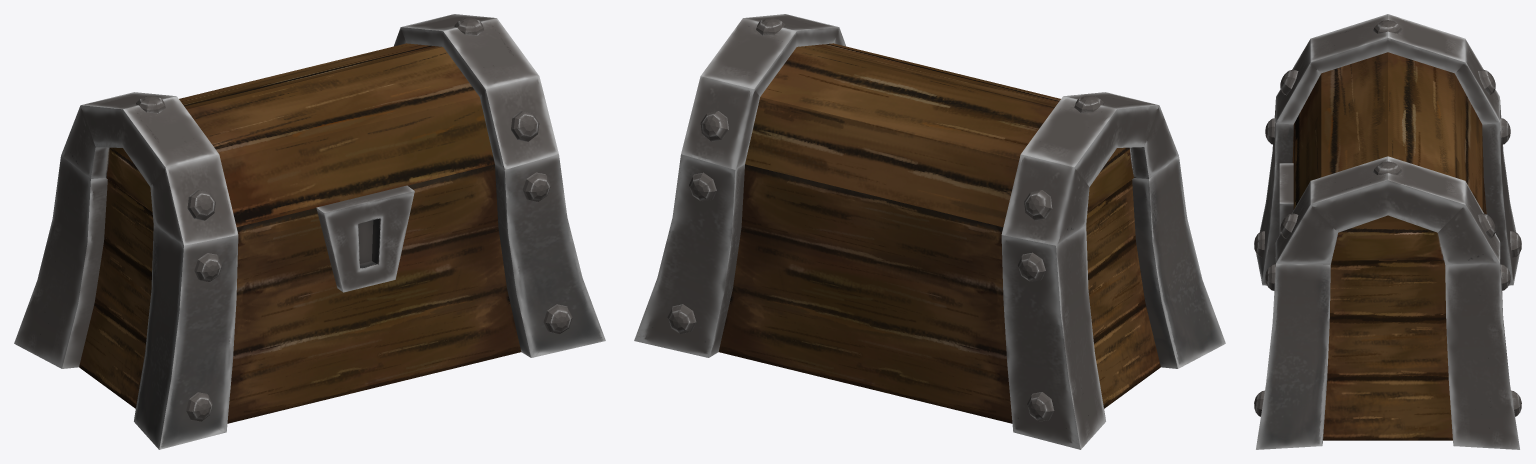
File: treasure_chest.glb
The picture shows the model from 3 angles, left to right: view 1: azimuth 30°, elevation 25°; view 2: azimuth 150°, elevation 25°; view 3: azimuth 270°, elevation 25°; orthographic projection. The views are drawn at different scales.
Parts seen in each view (by area): view 1: Chest, Lid, Keyhole, L_Screw_03, R_Screw_03, L_Screw_01, L_Screw_02, R_Screw_02, R_Screw_01; view 2: Chest, Lid, L_Screw_05, R_Screw_05, L_Screw_07, R_Screw_06, L_Screw_06, R_Screw_07; view 3: Chest, Lid, Keyhole, R_Screw_04, R_Screw_03, L_Screw_04, L_Screw_03, R_Screw_05, L_Screw_05.
Part boxes in pixels (x1=…): Chest: x1=14, y1=154, x2=605, y2=449; Lid: x1=61, y1=14, x2=558, y2=245; Keyhole: x1=316, y1=185, x2=414, y2=292; L_Screw_03: x1=511, y1=111, x2=539, y2=141; R_Screw_03: x1=187, y1=190, x2=215, y2=220; L_Screw_01: x1=543, y1=304, x2=572, y2=333; L_Screw_02: x1=522, y1=172, x2=550, y2=201; R_Screw_02: x1=194, y1=253, x2=222, y2=281; R_Screw_01: x1=186, y1=392, x2=212, y2=421; Chest: x1=634, y1=154, x2=1225, y2=449; Lid: x1=681, y1=14, x2=1178, y2=245; L_Screw_05: x1=700, y1=111, x2=728, y2=141; R_Screw_05: x1=1024, y1=190, x2=1052, y2=220; L_Screw_07: x1=667, y1=304, x2=696, y2=333; R_Screw_06: x1=1018, y1=252, x2=1045, y2=281; L_Screw_06: x1=689, y1=172, x2=716, y2=201; R_Screw_07: x1=1027, y1=392, x2=1054, y2=421; Chest: x1=1256, y1=100, x2=1519, y2=449; Lid: x1=1276, y1=14, x2=1499, y2=264; Keyhole: x1=1279, y1=163, x2=1293, y2=234; R_Screw_04: x1=1373, y1=20, x2=1402, y2=33; R_Screw_03: x1=1280, y1=69, x2=1298, y2=95; L_Screw_04: x1=1373, y1=161, x2=1401, y2=174; L_Screw_03: x1=1280, y1=213, x2=1298, y2=238; R_Screw_05: x1=1478, y1=69, x2=1495, y2=94; L_Screw_05: x1=1478, y1=213, x2=1495, y2=238.
Size of the model in its own units: 44.17 by 27.16 by 25.17.
1 material, 1 textured.
